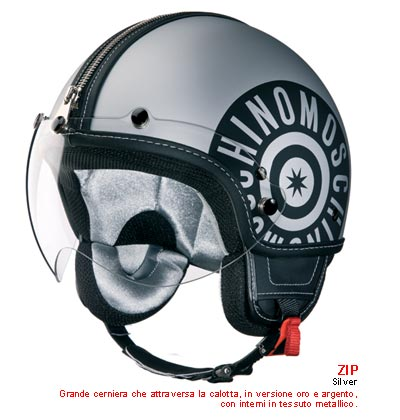helmet: (56, 28, 342, 299)
